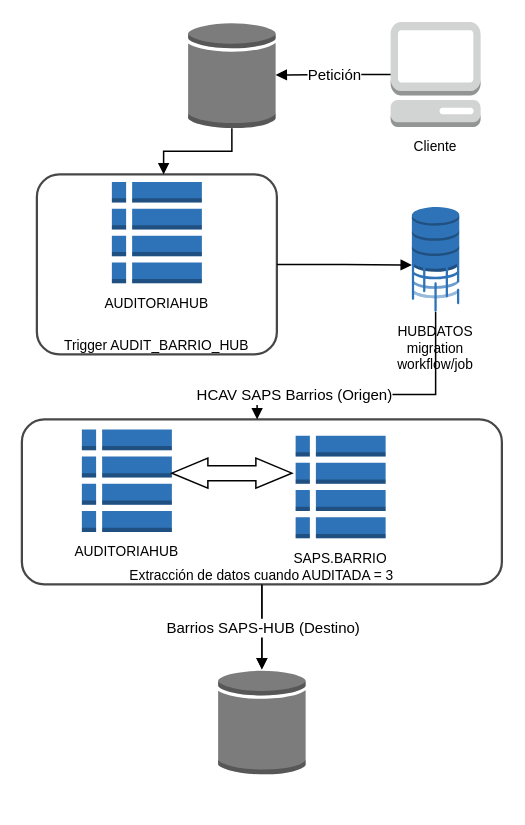
Image size: 525x825. Some labels were removed from this diagram. Each missing label, with the centre of its shape:
"HUB" goes at (x=261, y=721).
"INNER" goes at (x=231, y=472).
"SAPS" goes at (x=231, y=74).
